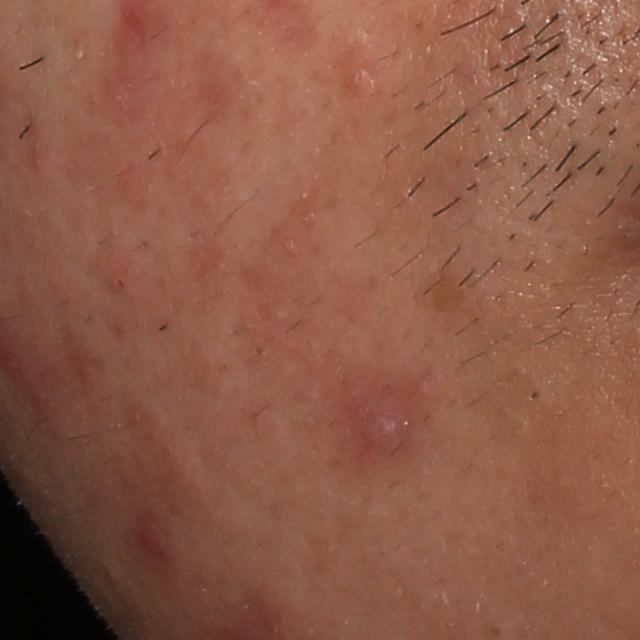comedo: (524, 386, 544, 407)
papule: (355, 395, 407, 455), (0, 335, 34, 387), (342, 55, 379, 97)
